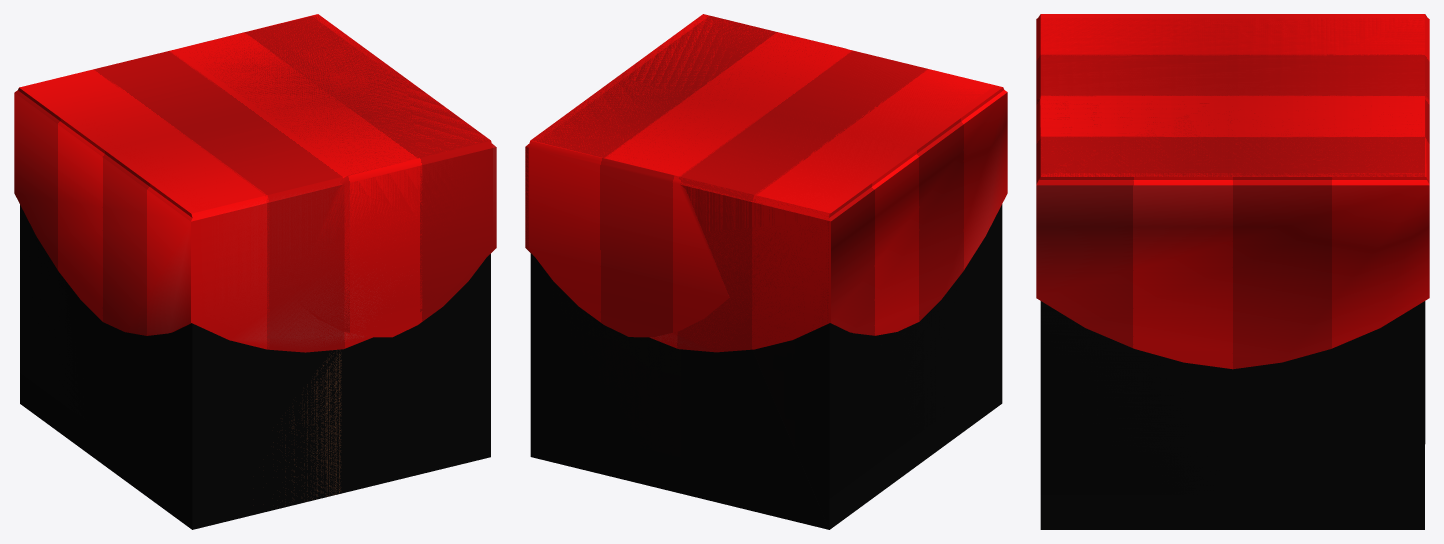
The model's file is GrassCubes_set.glb.
3 views of the same model, side by side, from view 1: azimuth 30°, elevation 25°; view 2: azimuth 150°, elevation 25°; view 3: azimuth 270°, elevation 25° (orthographic). The views are drawn at different scales.
Parts seen in each view (by area): view 1: CubeGrass, CubeGrassRounded, TrapGrass, CubeGrassR_SideFlat, CubeGrassR_BottomFlat, RampGrass; view 2: CubeGrassRounded, CubeGrass, CubeGrassR_SideFlat, TrapGrass, CubeGrassR_BottomFlat; view 3: CubeGrassRounded, CubeGrass, TrapGrass, CubeGrassR_SideFlat, CubeGrassR_BottomFlat.
Boxes of the visible parts, <box> form: CubeGrass: <box>21,15,492,529</box>; CubeGrassRounded: <box>14,16,496,517</box>; TrapGrass: <box>197,14,492,493</box>; CubeGrassR_SideFlat: <box>18,17,495,529</box>; CubeGrassR_BottomFlat: <box>20,206,341,529</box>; RampGrass: <box>273,353,341,505</box>; CubeGrassRounded: <box>525,16,1007,501</box>; CubeGrass: <box>531,14,1002,529</box>; CubeGrassR_SideFlat: <box>525,16,1004,459</box>; TrapGrass: <box>528,14,846,529</box>; CubeGrassR_BottomFlat: <box>530,254,995,529</box>; CubeGrassRounded: <box>1036,17,1429,494</box>; CubeGrass: <box>1036,14,1429,529</box>; TrapGrass: <box>1036,98,1429,529</box>; CubeGrassR_SideFlat: <box>1036,14,1429,185</box>; CubeGrassR_BottomFlat: <box>1040,301,1232,529</box>.
Bounding box in the file's own units: 1.02 × 1.01 × 1.02.
6 materials, 6 textured.
